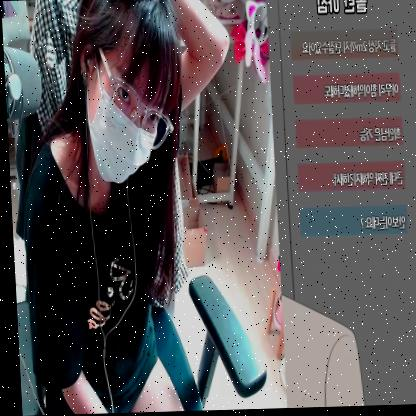streamer: (9, 0, 243, 416)
